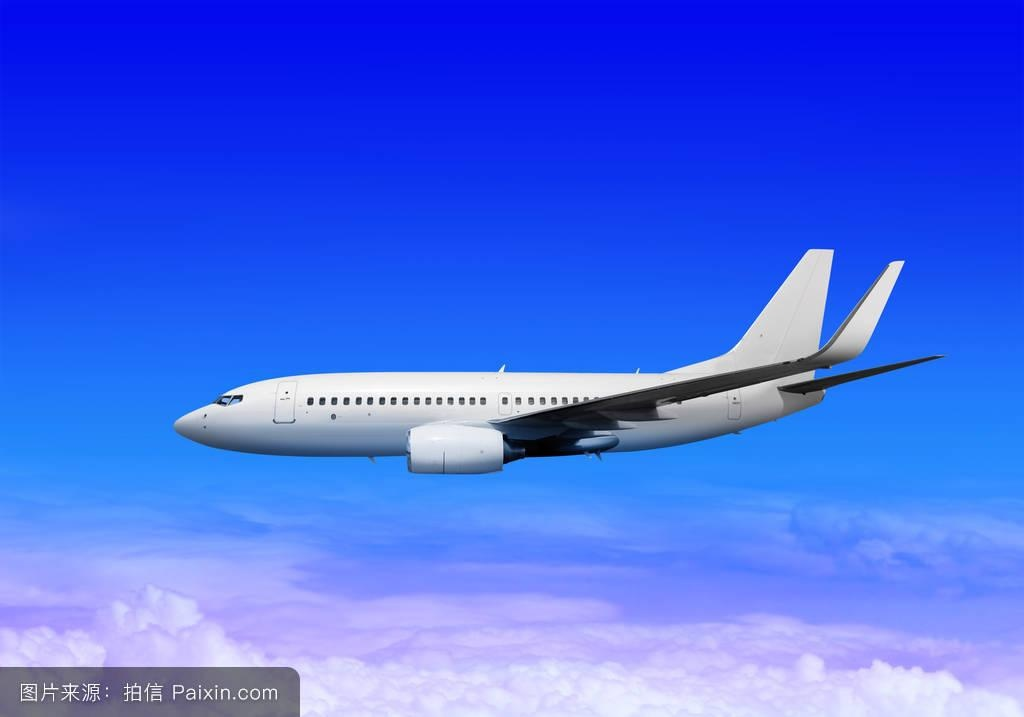airplane: (171, 247, 955, 483)
